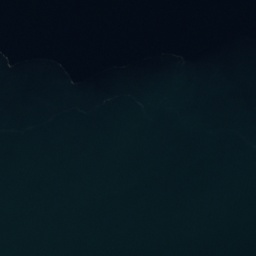Marine Debris: (0, 50, 13, 69)
